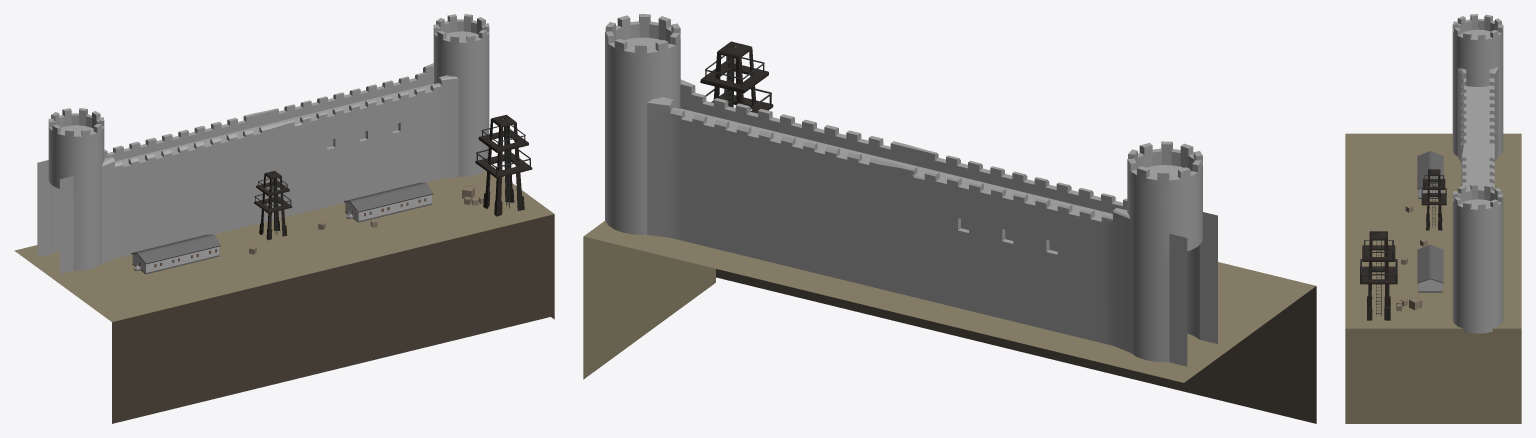
Rendered from barracks2.fbx.
3 renders of one model, left to right at view 1: azimuth 30°, elevation 25°; view 2: azimuth 150°, elevation 25°; view 3: azimuth 270°, elevation 25°, orthographic. The views are drawn at different scales.
Visible parts, largest first — view 1: pPlane1, pasted__pasted__pasted__pCube4, pasted__pCube1 (×2), pasted__pCube29 (×2); view 2: pasted__pasted__pasted__pCube4, pPlane1, pasted__pCube29; view 3: pPlane1, pasted__pasted__pasted__pCube4, pasted__pCube29 (×2), pasted__pCube1 (×2).
Part boxes in pixels (<box>): pPlane1: <box>14,171,554,423</box>; pasted__pasted__pasted__pCube4: <box>37,14,489,273</box>; pasted__pCube1 (×2): <box>131,182,433,274</box>; pasted__pCube29 (×2): <box>254,114,532,240</box>; pasted__pasted__pasted__pCube4: <box>605,14,1217,366</box>; pPlane1: <box>583,221,1316,423</box>; pasted__pCube29: <box>700,41,773,113</box>; pPlane1: <box>1345,133,1521,423</box>; pasted__pasted__pasted__pCube4: <box>1452,14,1503,333</box>; pasted__pCube29 (×2): <box>1360,169,1446,320</box>; pasted__pCube1 (×2): <box>1417,151,1443,292</box>.
Size of the model in its own units: 783 by 409 by 296.
